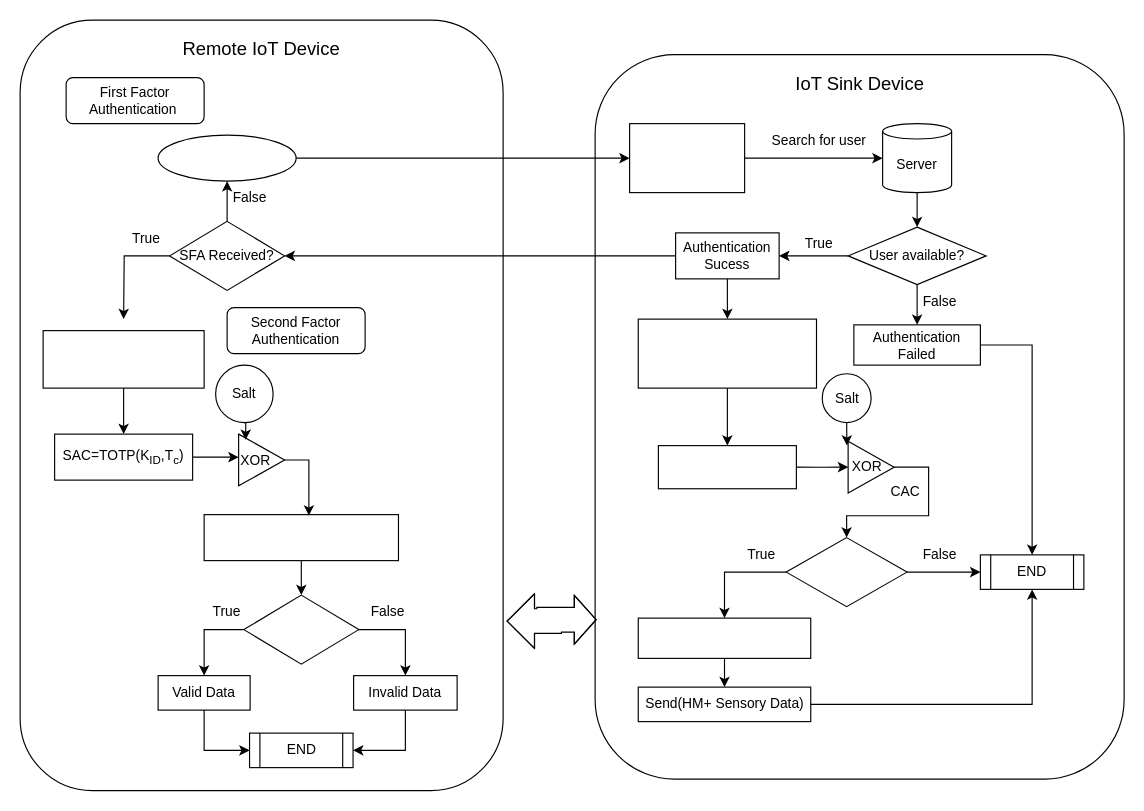
This 1144x811 diagram has some shape labels left out. The shapes that lost their labels are listed below. From the top down, each one's centre as x and y in pixels, then its label:
At pixel 226 157: "Username,Password".
At pixel 686 157: "Processing Authentication Request".
At pixel 123 358: "RTT=Get_RTT()+30 T c = CurrentTime()/RTT".
At pixel 726 353: "RTT=Get_RTT()+30 TimeWait(RTT) T c =int(CurrentTime()/RTT)".
At pixel 726 466: "CAC=TOTP(K ID ,T c )".
At pixel 300 537: "RHM=H 1 (K ID ,SensoryData)".
At pixel 846 571: "SAC==CAC?".
At pixel 301 629: "HM==RHM?".
At pixel 724 637: "HM=H 1 (K ID ,Sensory Data)".
